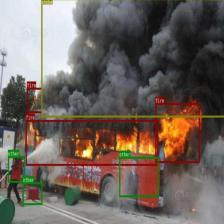fire: (25, 120, 158, 165), (155, 103, 200, 163), (27, 88, 42, 113)
smoke: (41, 0, 224, 117)
